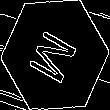M_SE: (25, 23, 85, 87)
